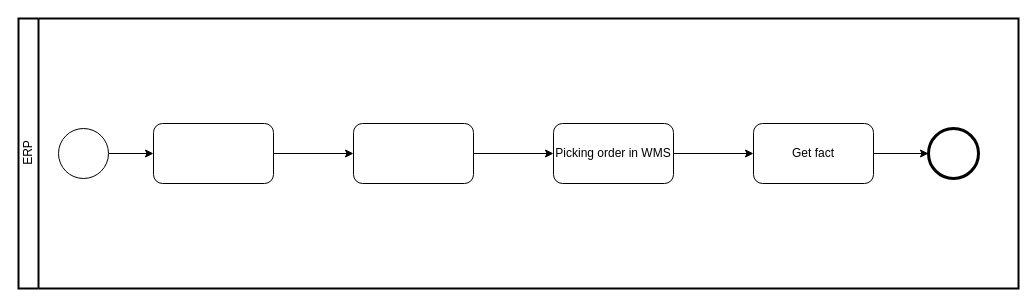
The diagram is 1036 pixels wide and 306 high, and some of its shapes have lost their labels. Each missing label, with the box of its shape:
New customer order: (152, 122, 274, 184)
Send order in OrderCycle: (352, 122, 474, 184)
